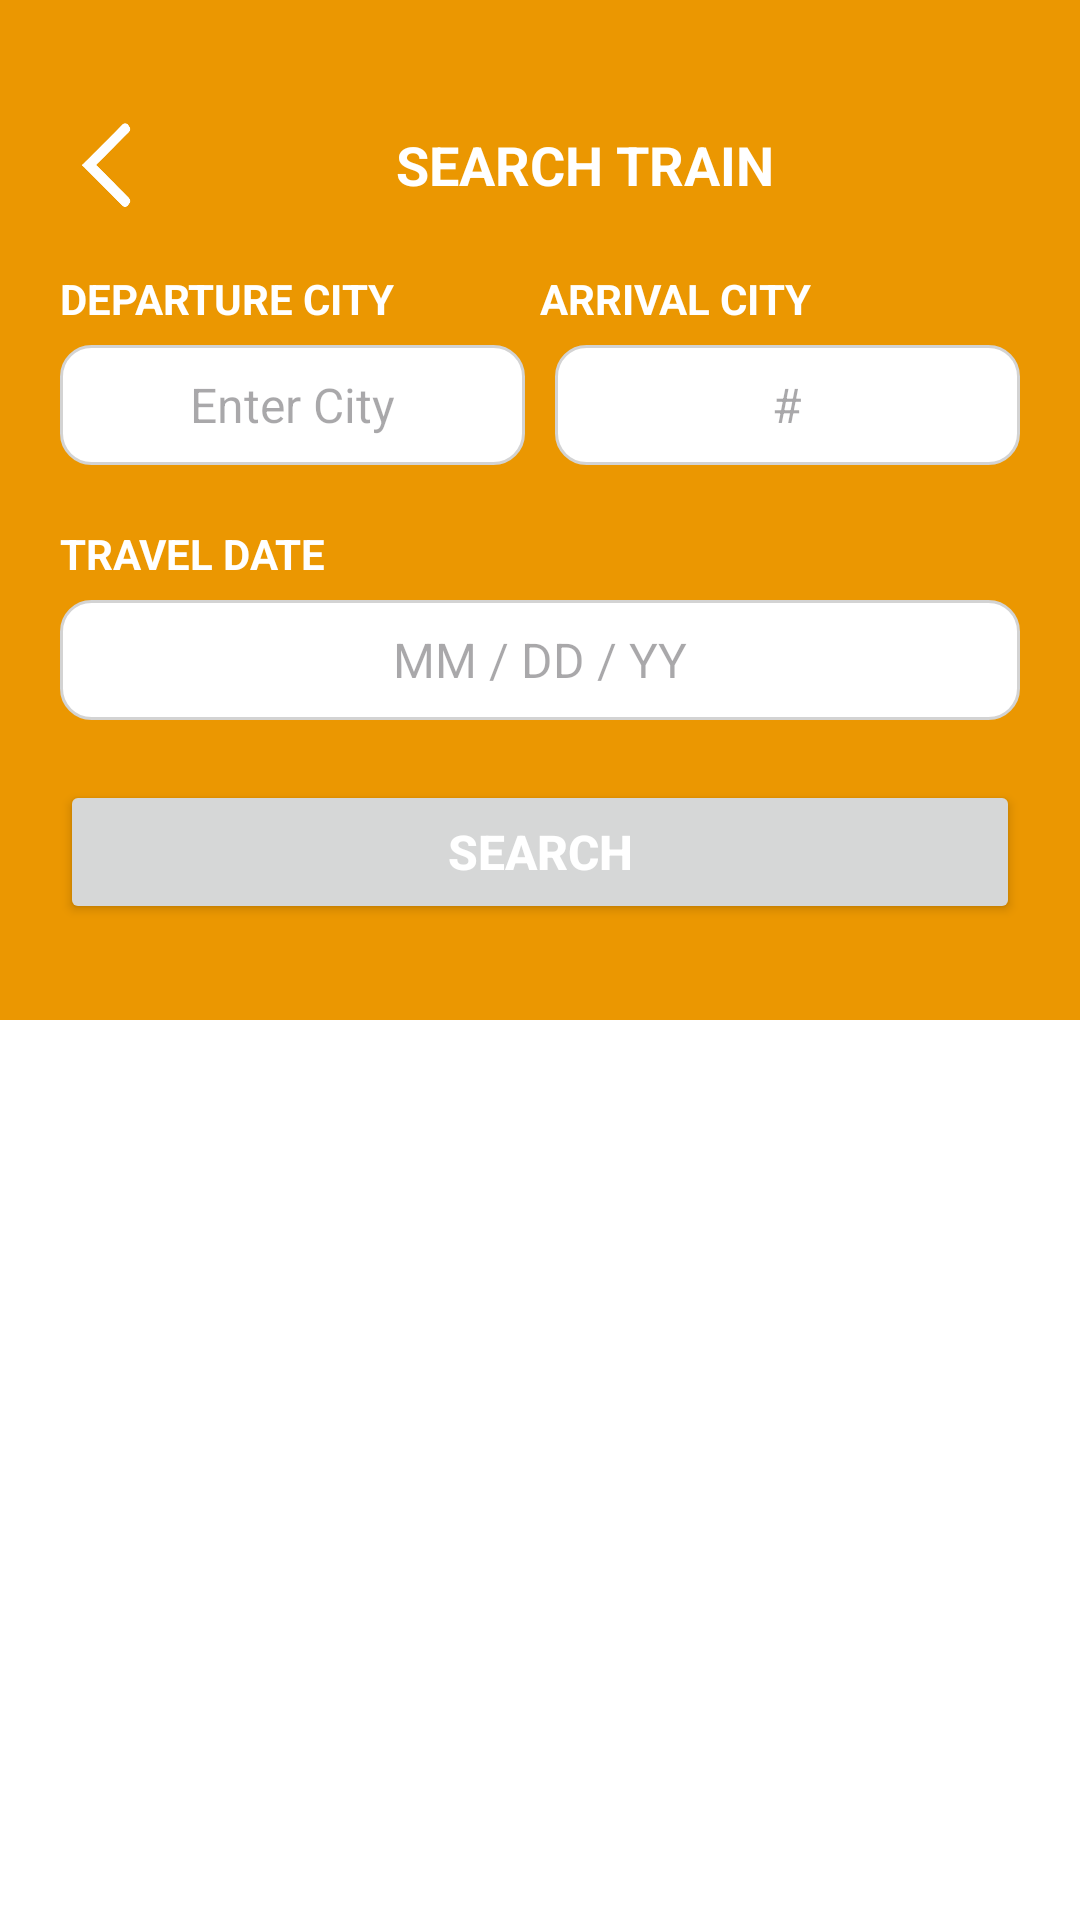

Where icons sit on this 1080x1920 app screen, as bbox=(x1, y1, x2, y2):
back: bbox=(82, 123, 131, 207)
